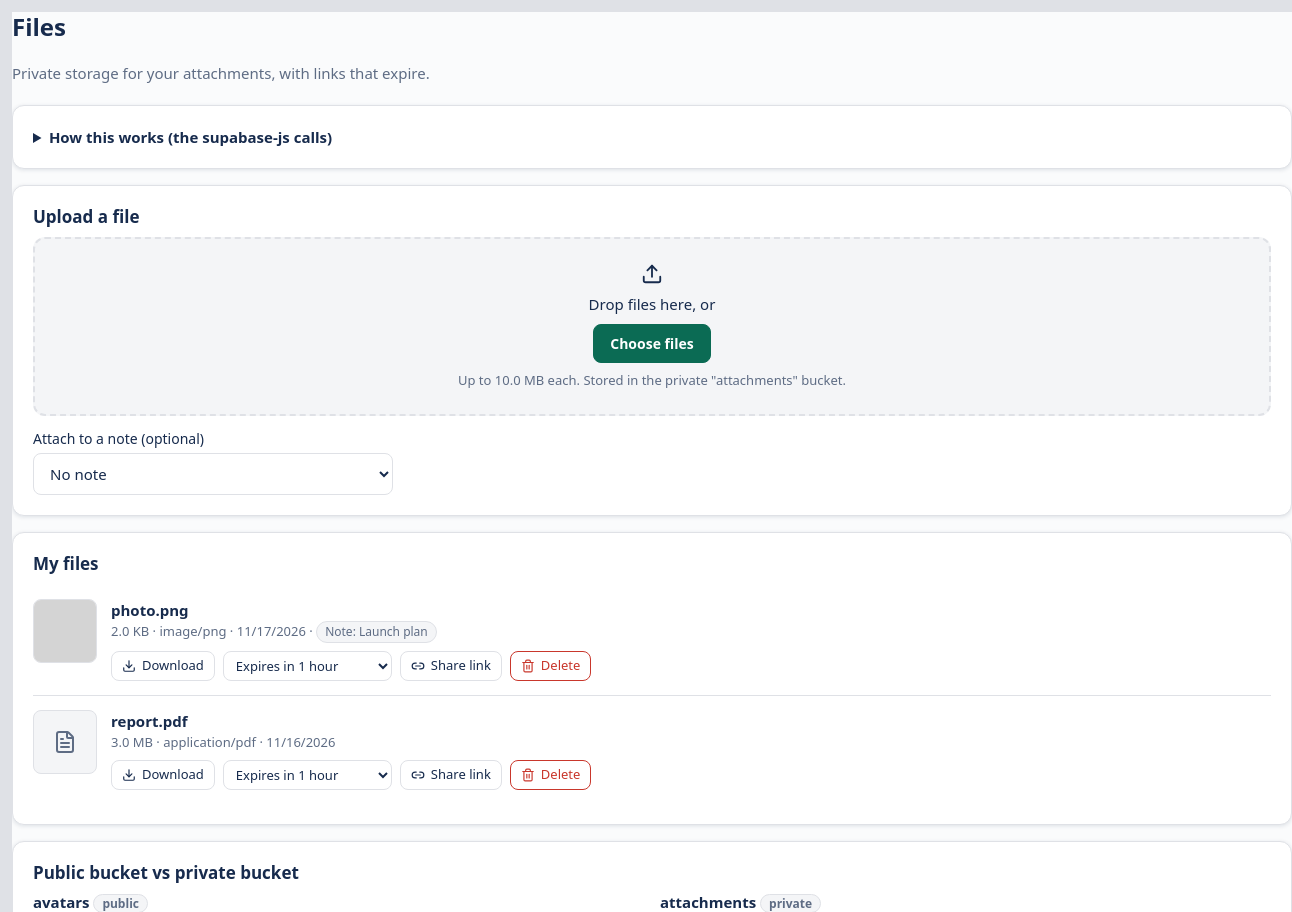
Test: share link › shows an error when signing fails
Click the button "Share link" below "2.0 KB": (451, 666) [400,651,502,681]
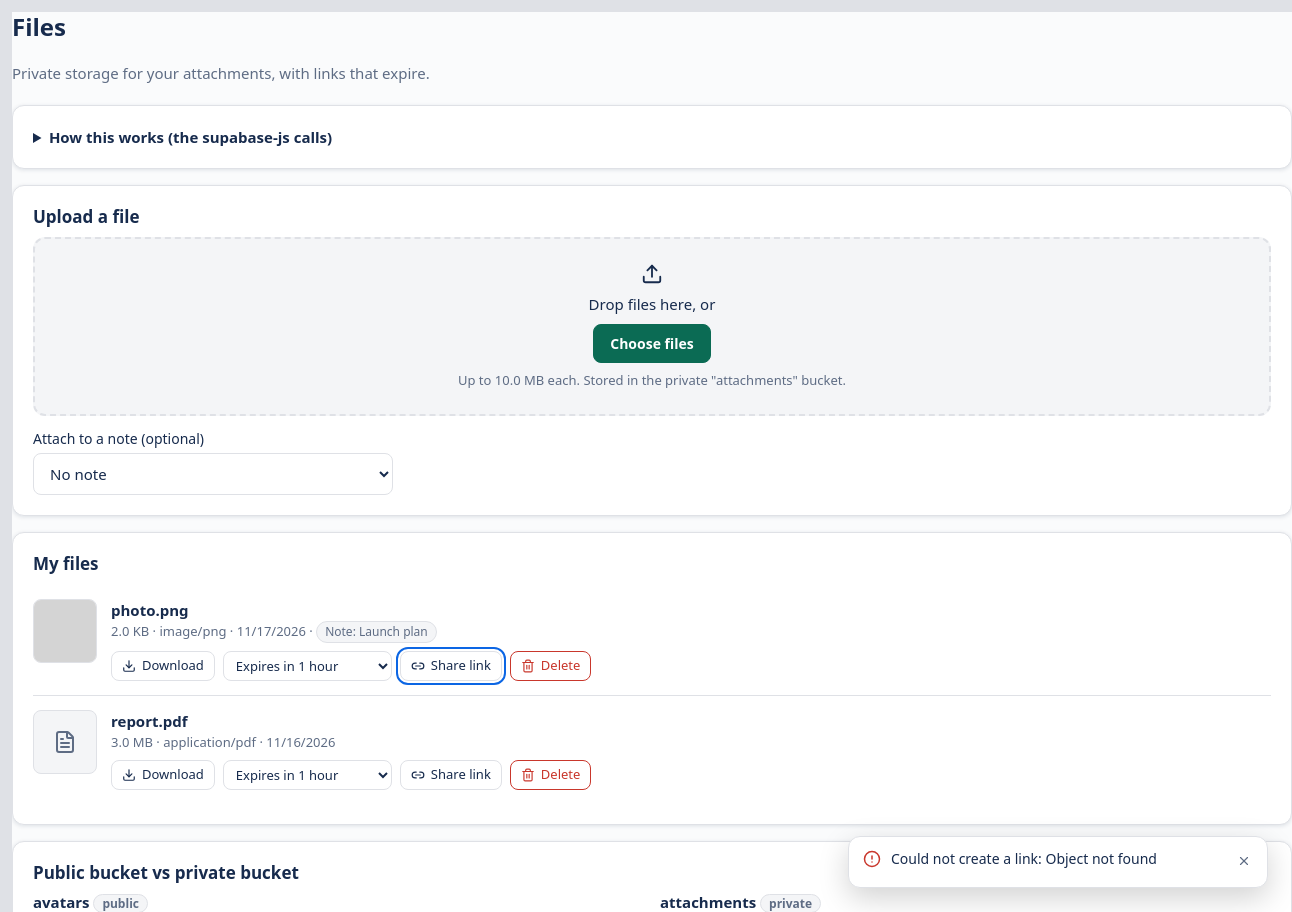
Check: the text "Could not create a link: Object not found" is shown, box [891,849,1157,868]
